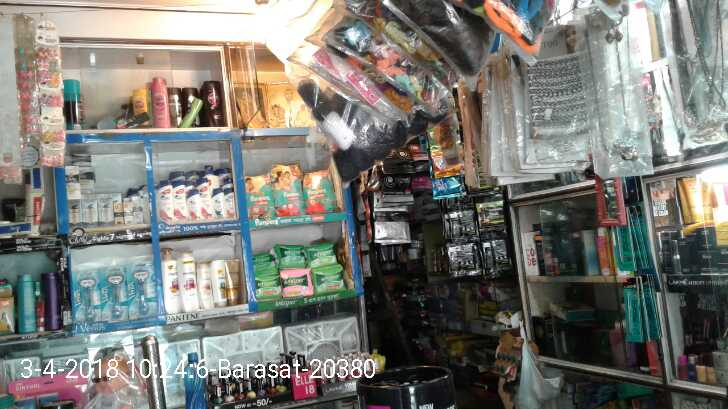gillete: (119, 112, 149, 127)
venus: (129, 261, 156, 318), (102, 266, 127, 321), (77, 270, 100, 321)
